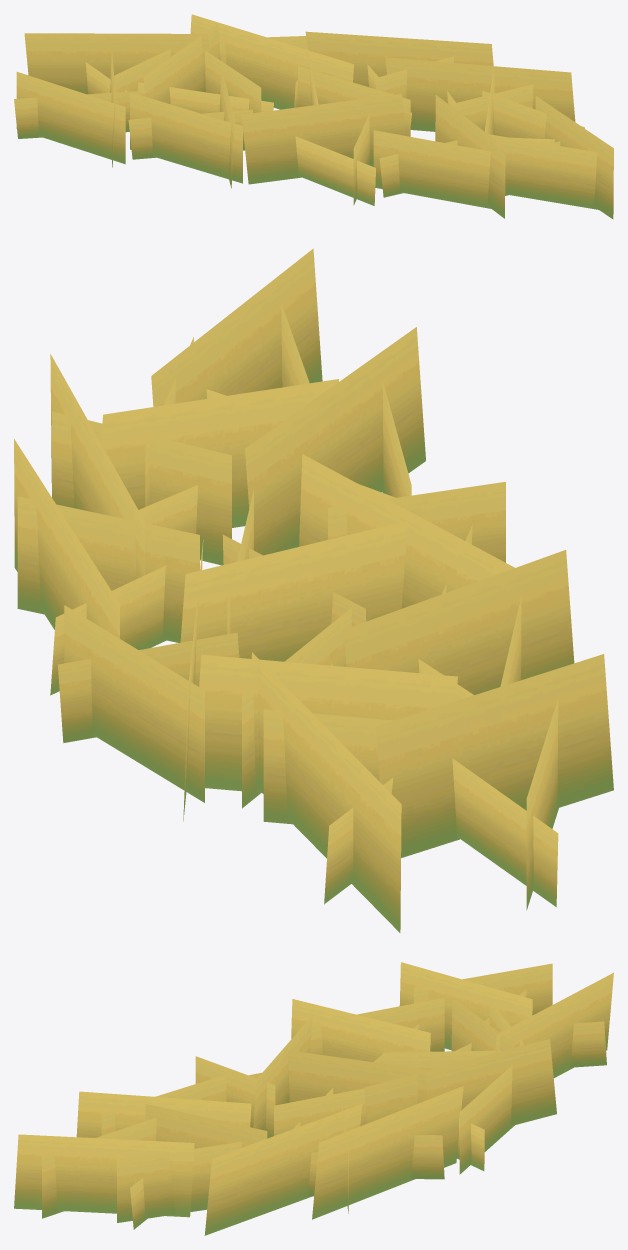
The model's file is V_Grass9.fbx.
3 views of the same model, one above another, from view 1: azimuth 30°, elevation 25°; view 2: azimuth 150°, elevation 25°; view 3: azimuth 270°, elevation 25° (orthographic). The views are drawn at different scales.
Parts seen in each view (by area): view 1: TW101_grass10; view 2: TW101_grass10; view 3: TW101_grass10.
Part boxes in pixels (x1,y1,x2,y2): TW101_grass10: [14, 14, 613, 219]; TW101_grass10: [14, 248, 613, 932]; TW101_grass10: [14, 962, 613, 1235].
Size of the model in its own units: 3.8 by 0.6704 by 4.39.
